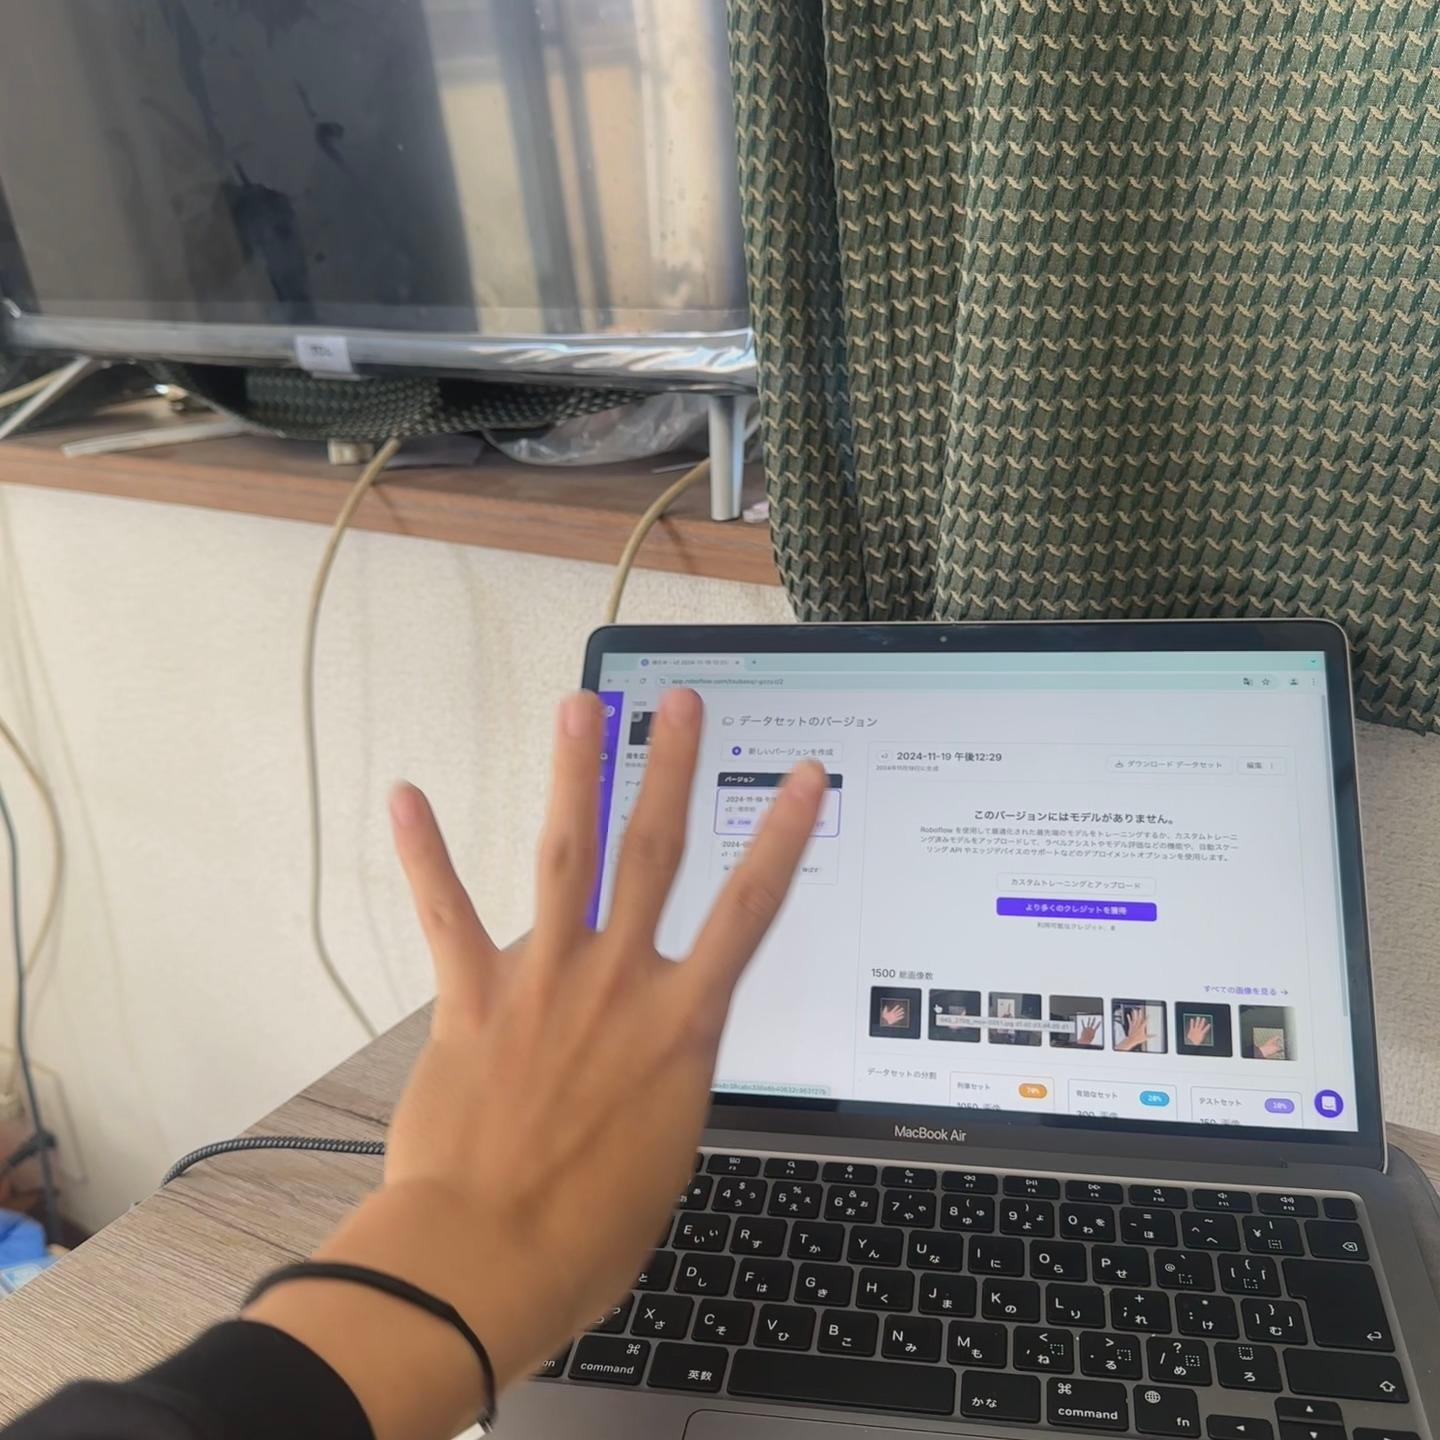without_gloves: (273, 469, 982, 1333)
